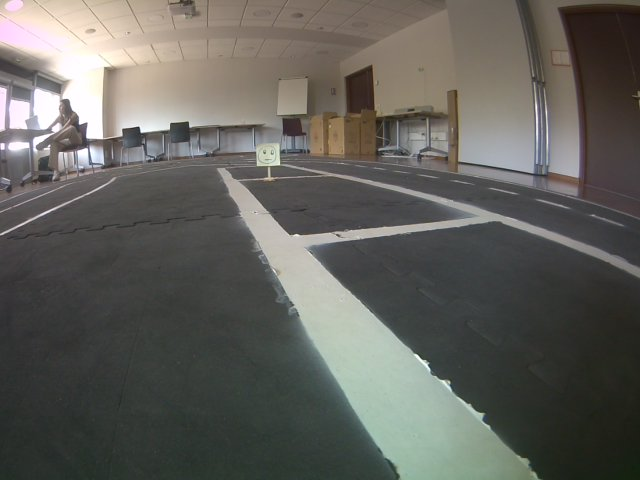Smiley: (253, 142, 282, 167)
